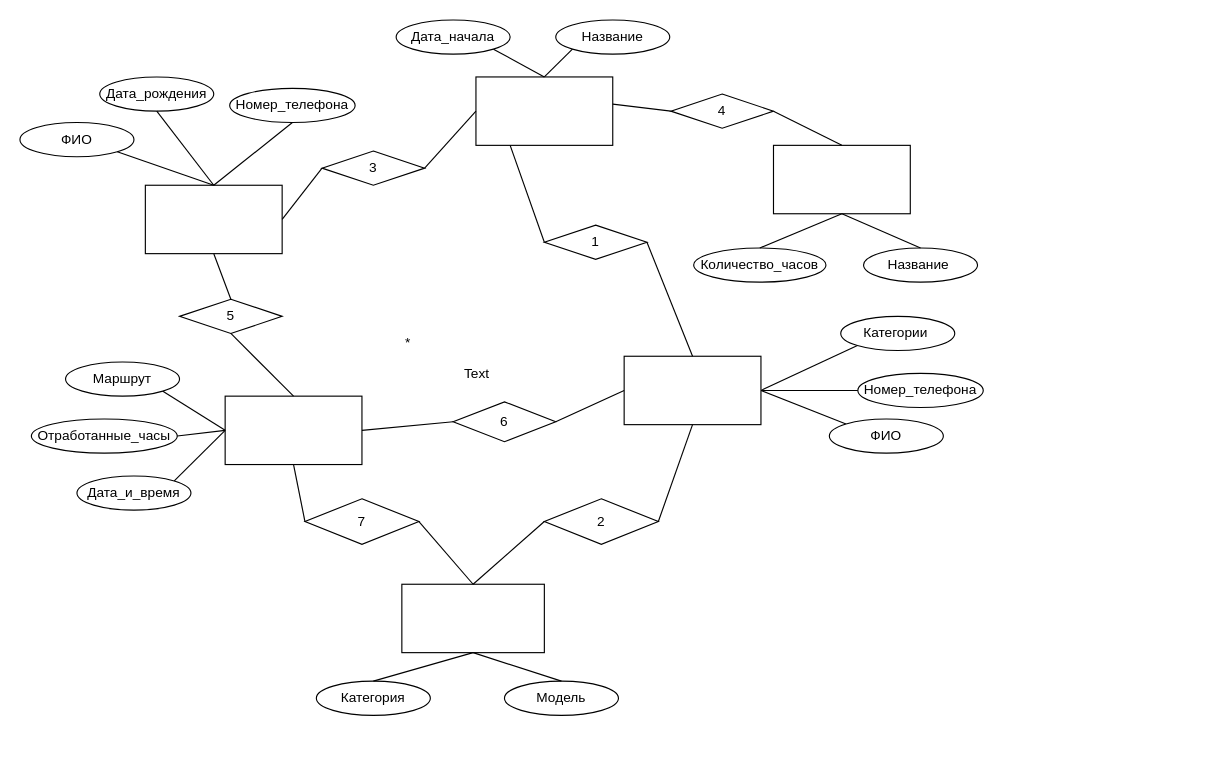
The diagram is 1214 pixels wide and 764 high, and some of its shapes have lost their labels. Here are the shapes that lost their labels. From the top down, the box of each, then its label:
(475, 76, 613, 145): Группа
(772, 144, 910, 214): Предмет
(144, 184, 282, 254): Курсант
(623, 355, 761, 425): Инструктор
(224, 395, 362, 465): Вождение
(401, 583, 544, 653): Автомобиль
